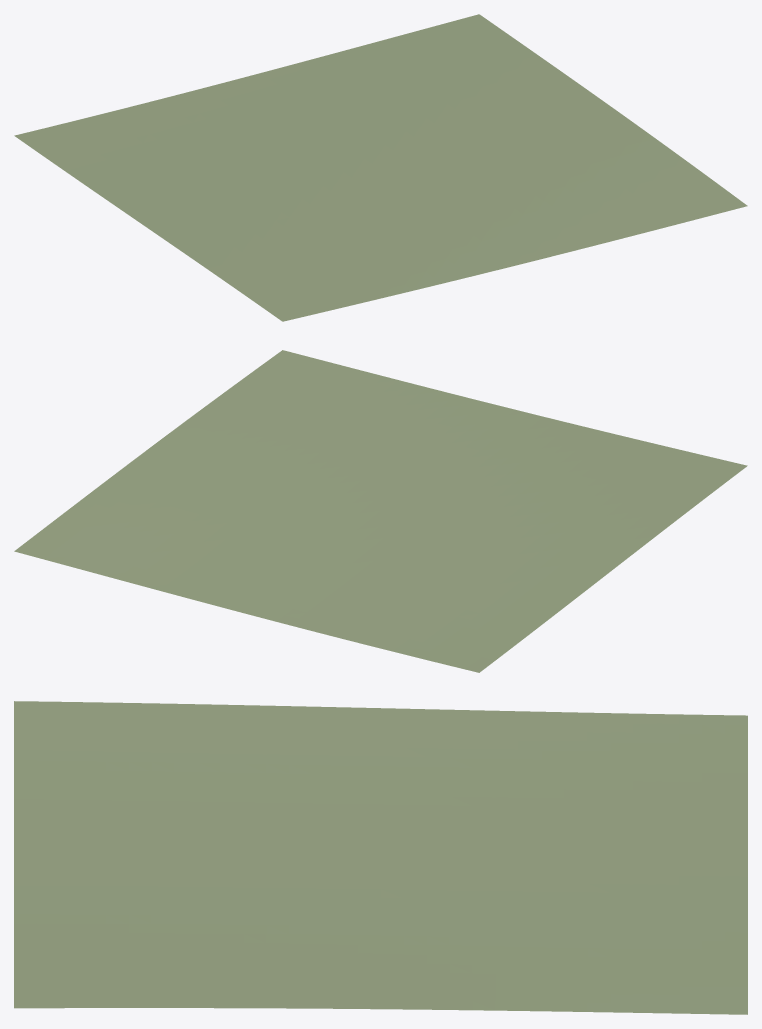
The model's file is expanse-30-16.glb.
3 renders of one model, top to bottom at view 1: azimuth 30°, elevation 25°; view 2: azimuth 150°, elevation 25°; view 3: azimuth 270°, elevation 25°, orthographic. The views are drawn at different scales.
Parts seen in each view (by area): view 1: expanse-30-16; view 2: expanse-30-16; view 3: expanse-30-16.
Boxes of the visible parts, bbox=[...] form: expanse-30-16: bbox=[14, 14, 747, 321]; expanse-30-16: bbox=[14, 350, 747, 672]; expanse-30-16: bbox=[14, 701, 747, 1014].
Bounding box in the file's own units: 256 × 6.81 × 256.
